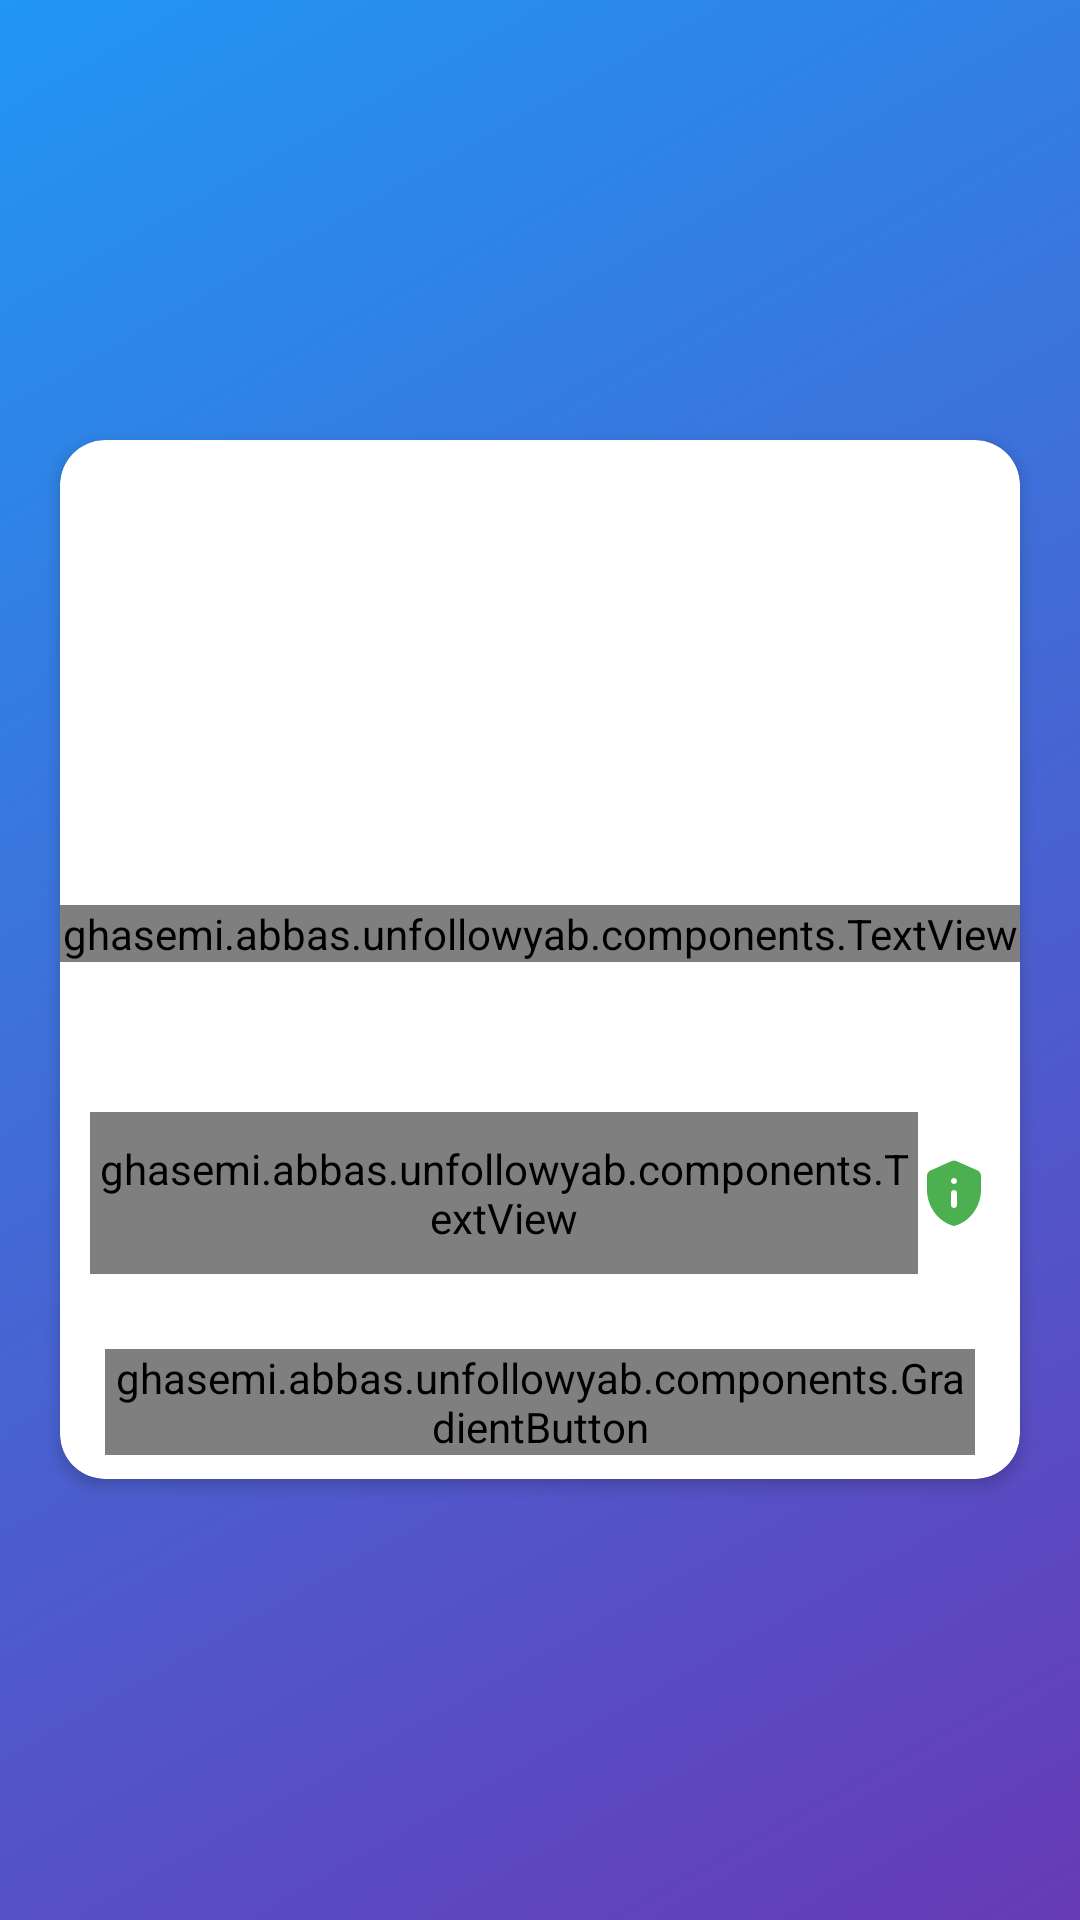

Named icons in this screenshot (1080×1920) and their centers, point (x, y):
privacy: point (954, 1193)
